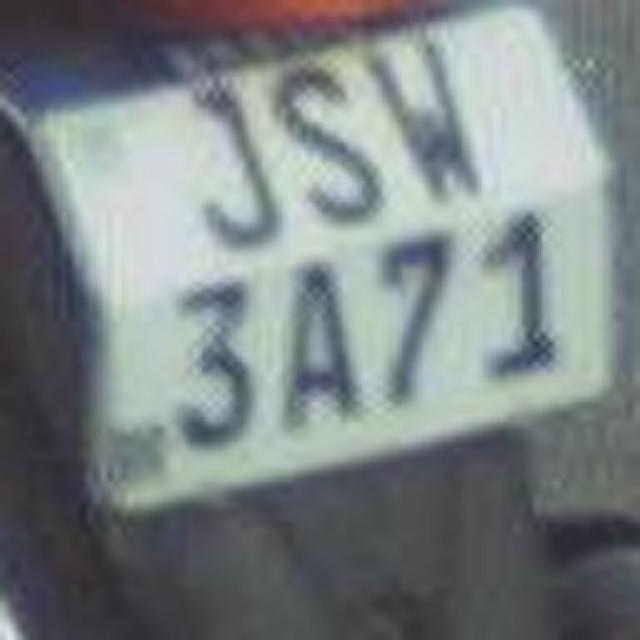1: (456, 184, 572, 384)
3: (136, 251, 284, 464)
7: (360, 216, 468, 412)
A: (248, 231, 384, 444)
J: (156, 80, 284, 260)
S: (256, 56, 389, 232)
W: (356, 28, 496, 212)
